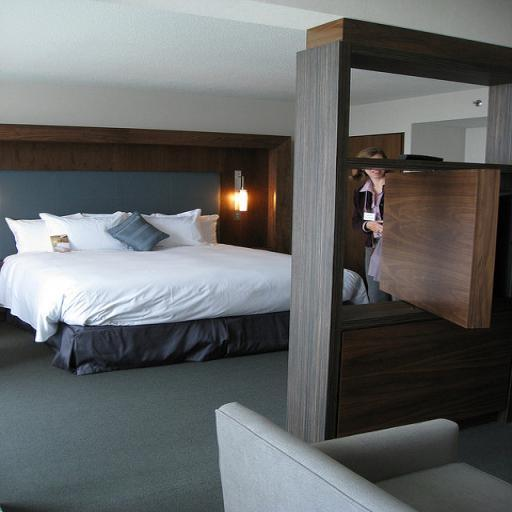bed: (4, 160, 366, 422)
